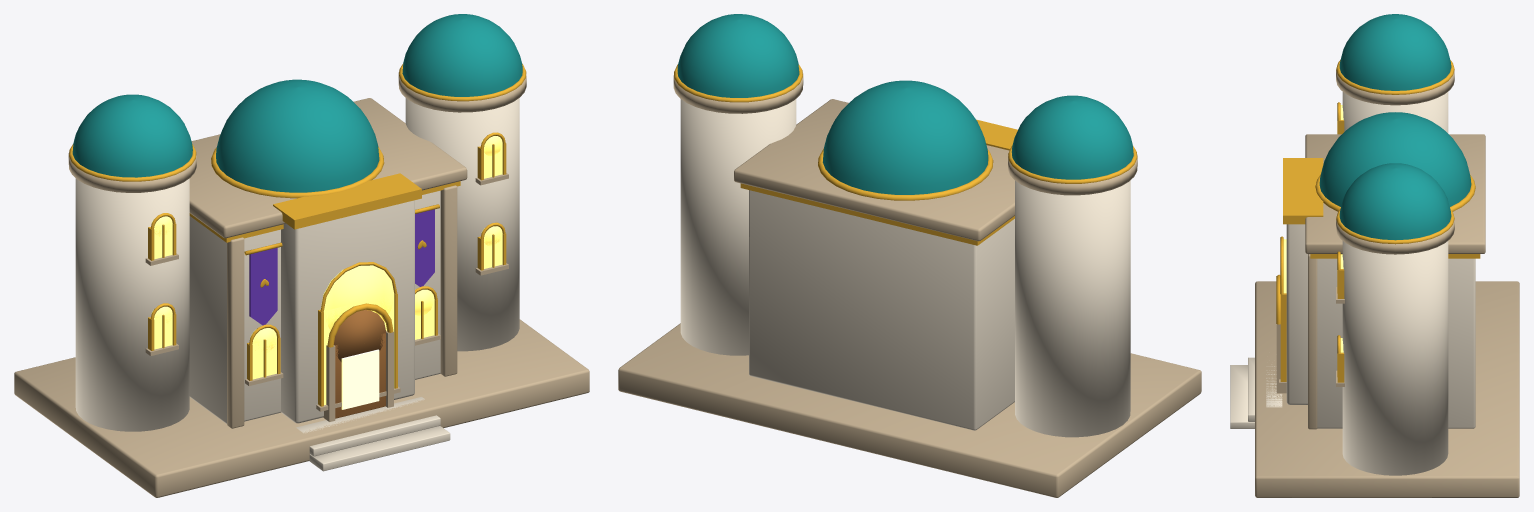
Rendered from palat_3.glb.
3 views of the same model, side by side, from view 1: azimuth 30°, elevation 25°; view 2: azimuth 150°, elevation 25°; view 3: azimuth 270°, elevation 25° (orthographic). The views are drawn at different scales.
Visible parts, largest first — view 1: Palat.001; view 2: Palat.001; view 3: Palat.001.
Boxes of the visible parts, x1=… form: Palat.001: x1=14, y1=14, x2=589, y2=497; Palat.001: x1=618, y1=14, x2=1201, y2=497; Palat.001: x1=1230, y1=14, x2=1519, y2=497.
Bounding box in the file's own units: 5.88 × 4.22 × 3.61.
